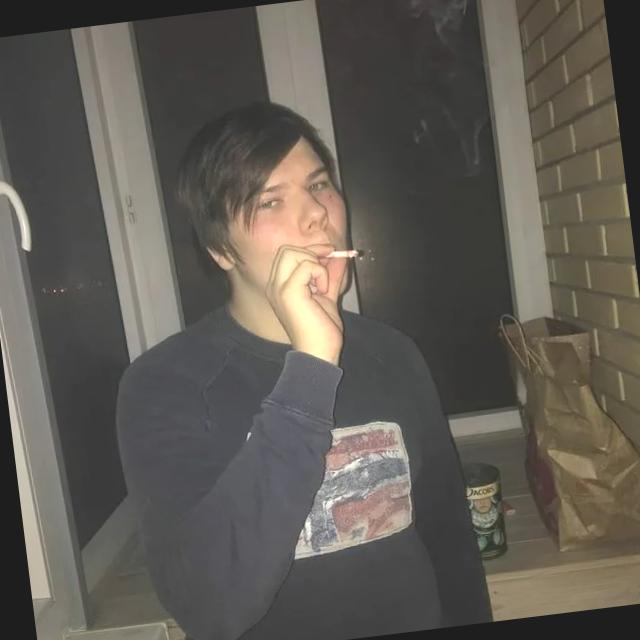cigarette: (319, 240, 366, 268)
